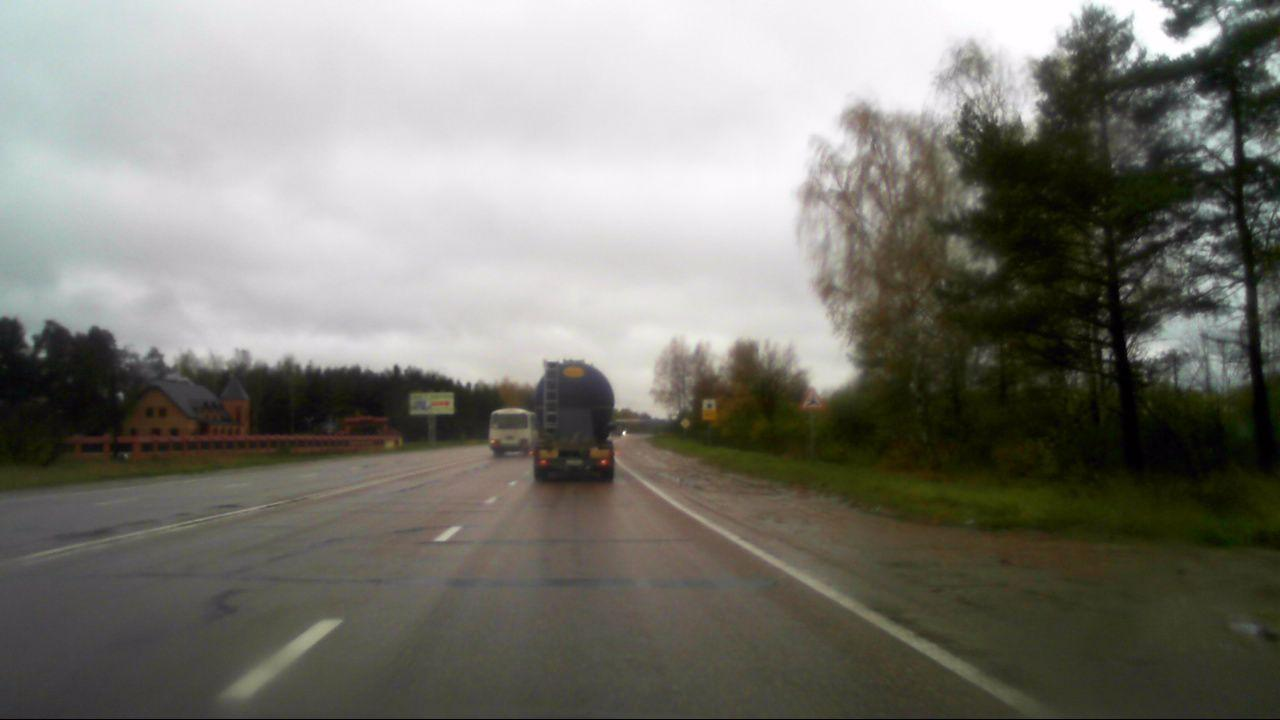1_30: (800, 388, 824, 411)
